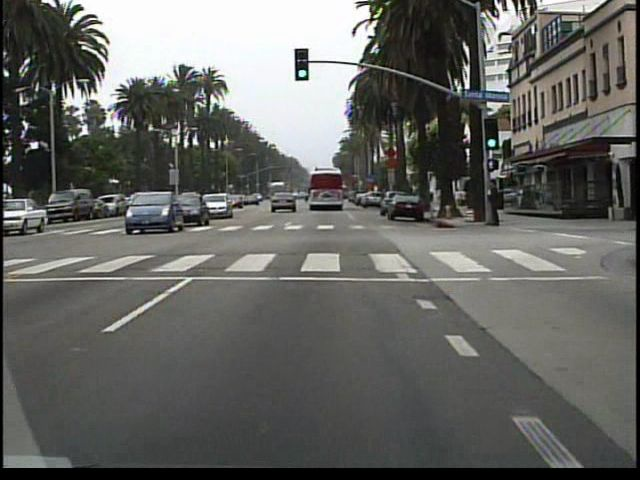person: (486, 177, 504, 231)
